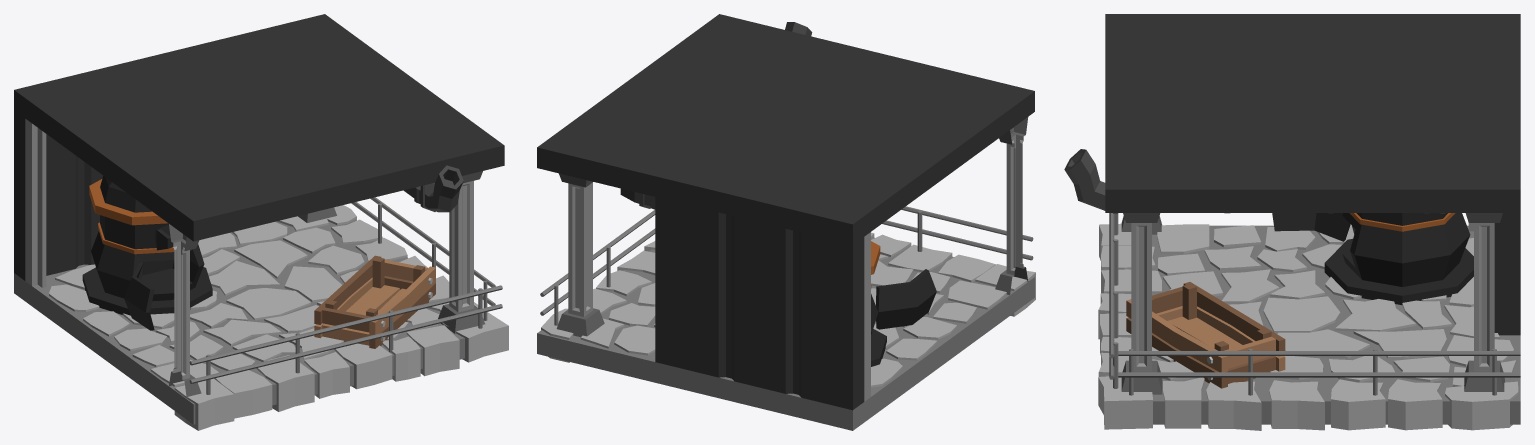
File: CoalGenerator_Level_01_CornerRight.fbx
The picture shows the model from 3 angles, left to right: view 1: azimuth 30°, elevation 25°; view 2: azimuth 150°, elevation 25°; view 3: azimuth 270°, elevation 25°; orthographic projection. The views are drawn at different scales.
Parts seen in each view (by area): view 1: CoalGenerator_Level_01_CornerRight; view 2: CoalGenerator_Level_01_CornerRight; view 3: CoalGenerator_Level_01_CornerRight.
Boxes of the visible parts, <box> form: CoalGenerator_Level_01_CornerRight: <box>14,14,508,430</box>; CoalGenerator_Level_01_CornerRight: <box>537,14,1035,430</box>; CoalGenerator_Level_01_CornerRight: <box>1064,14,1520,430</box>.
Bounding box in the file's own units: 8.17 × 5.21 × 8.79.
